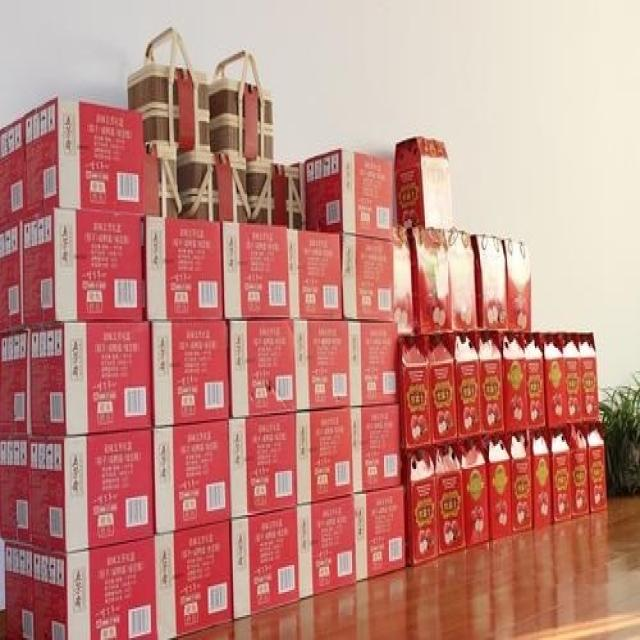box: (23, 94, 143, 223), (28, 431, 155, 552), (22, 209, 143, 331), (28, 319, 151, 434), (32, 534, 159, 638), (305, 146, 399, 242), (156, 522, 232, 638), (150, 320, 229, 427), (154, 421, 229, 533), (143, 217, 224, 319), (232, 509, 300, 620), (230, 414, 295, 518), (223, 221, 291, 319), (228, 320, 296, 417), (297, 496, 356, 600), (294, 407, 353, 505), (394, 136, 454, 229), (294, 321, 351, 411), (287, 229, 342, 319), (356, 486, 406, 584), (407, 227, 452, 331), (342, 234, 394, 323), (351, 404, 402, 494), (348, 321, 401, 407), (402, 446, 439, 567), (398, 332, 433, 448), (468, 234, 508, 331), (434, 440, 466, 555), (0, 434, 32, 544), (460, 434, 490, 548), (428, 329, 457, 446), (444, 233, 477, 331), (454, 329, 483, 438), (3, 544, 36, 638), (485, 431, 513, 538), (0, 119, 26, 231), (0, 331, 28, 434), (502, 329, 529, 432), (477, 329, 503, 432), (0, 221, 23, 334), (503, 240, 532, 329), (508, 431, 534, 530), (524, 331, 549, 429), (529, 429, 553, 529), (544, 329, 567, 427), (549, 425, 571, 525), (393, 227, 413, 336), (579, 331, 602, 423), (568, 423, 590, 519), (562, 331, 584, 425), (586, 423, 608, 513)
